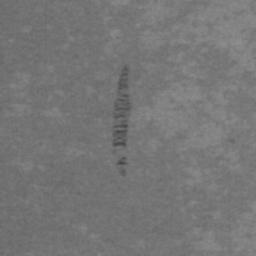Secondary rust skin: (112, 63, 133, 148), (116, 155, 128, 166)
